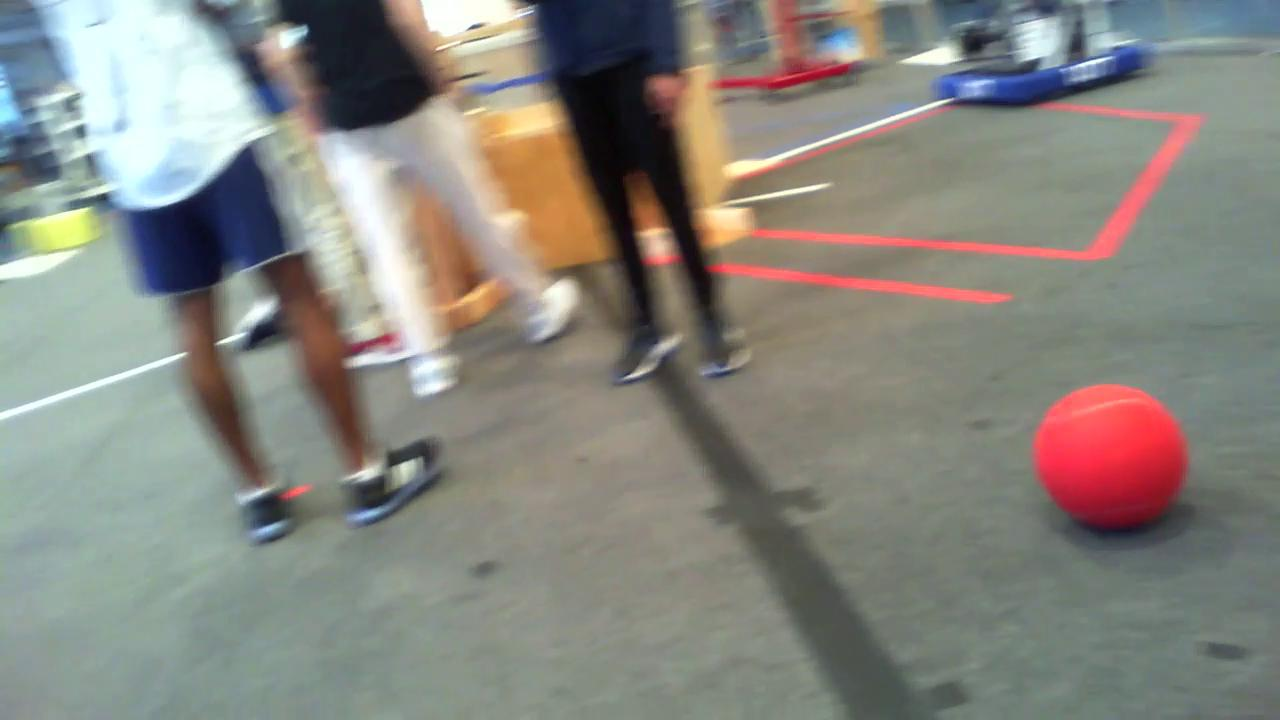robot: (935, 0, 1145, 107)
